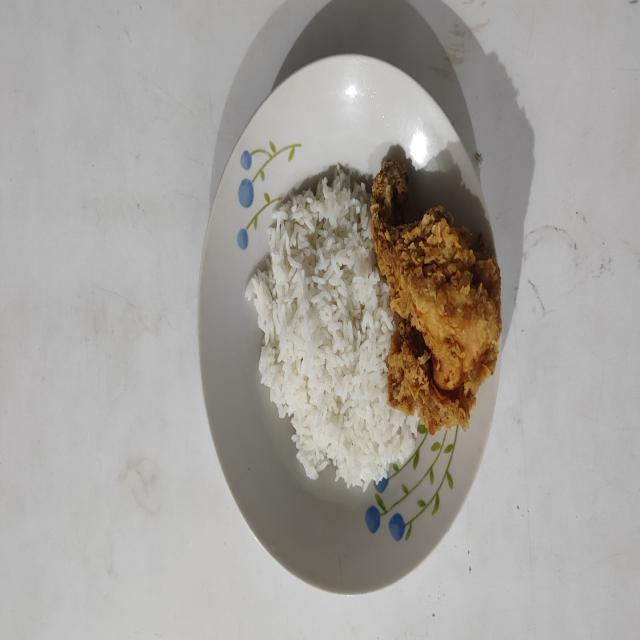nasi_putih: (246, 166, 419, 492)
